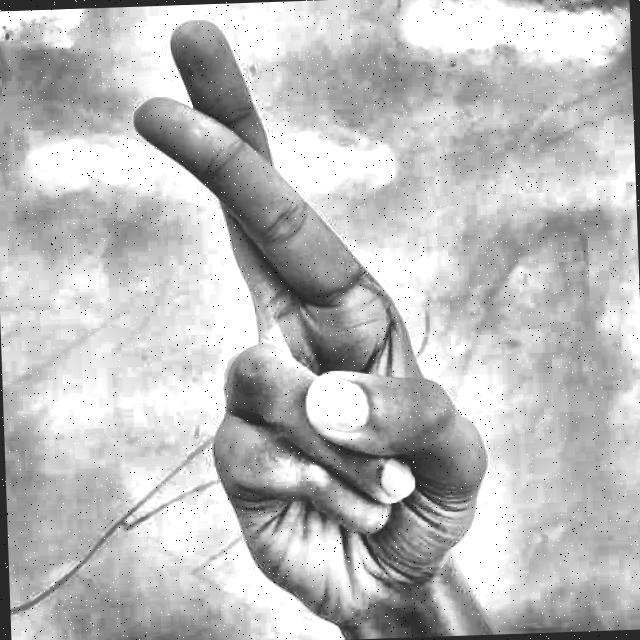Ra: (112, 2, 508, 640)
